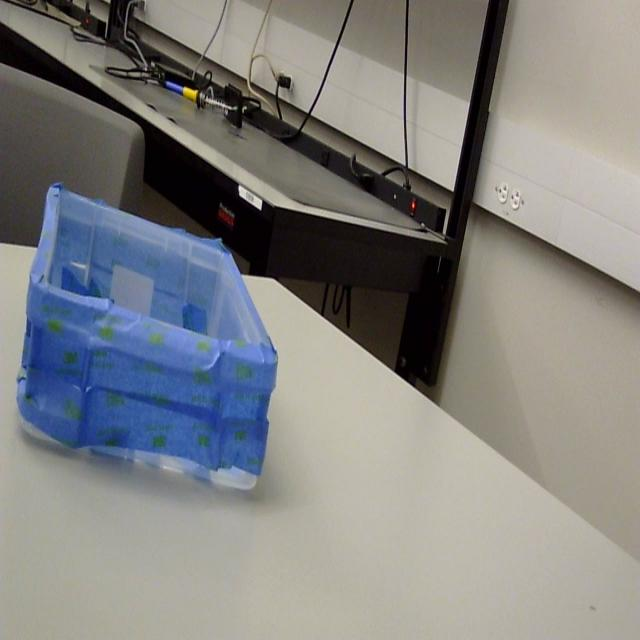bucket: (14, 184, 278, 494)
